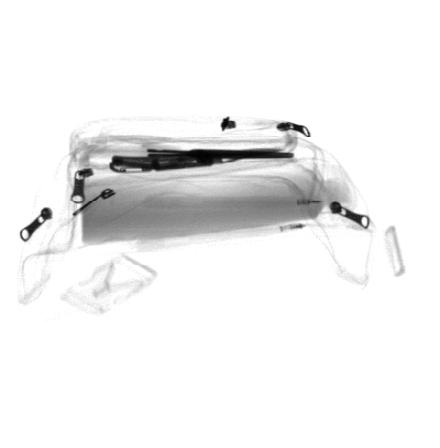Knife: (109, 148, 287, 173)
Scissors: (75, 129, 296, 172)
